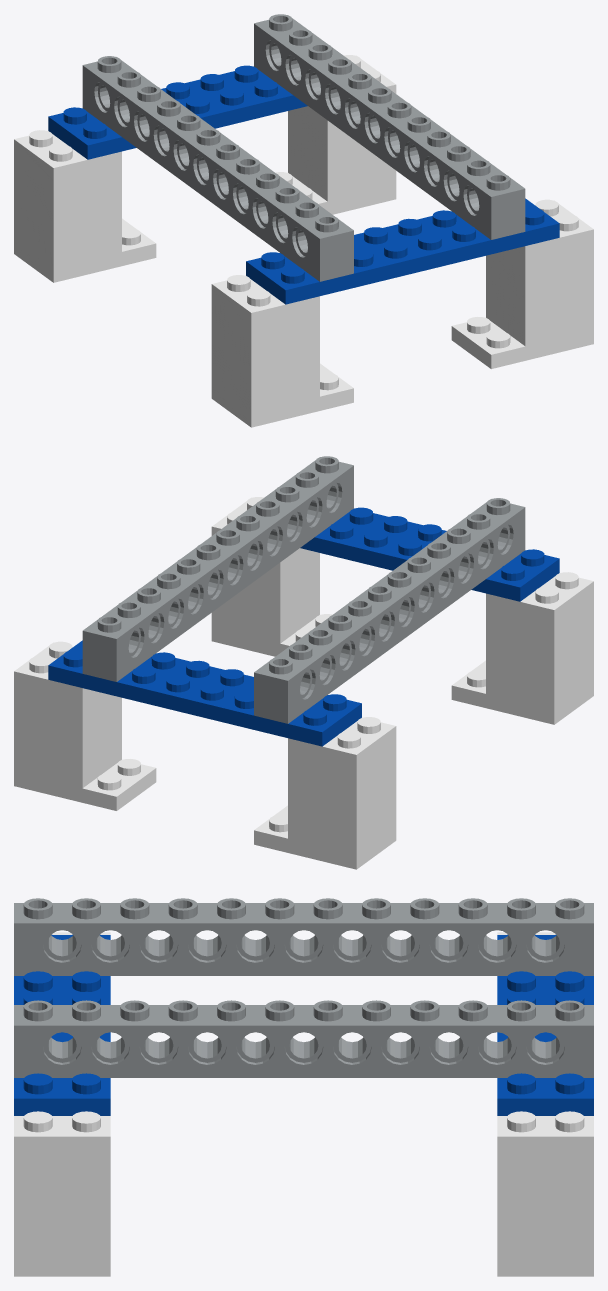
Rendered from chassis.dae.
The picture shows the model from 3 angles, top to bottom: view 1: azimuth 30°, elevation 25°; view 2: azimuth 150°, elevation 25°; view 3: azimuth 270°, elevation 25°; orthographic projection. The views are drawn at different scales.
Parts seen in each view (by area): view 1: Chassis (×19); view 2: Chassis (×19); view 3: Chassis (×46).
Boxes of the visible parts, box(x1,y1,x2,y2) form: Chassis (×19): box(14, 18, 593, 427); Chassis (×19): box(14, 460, 593, 869); Chassis (×46): box(14, 903, 593, 1276).
Size of the model in its own units: 3.15 by 3.78 by 1.57.
